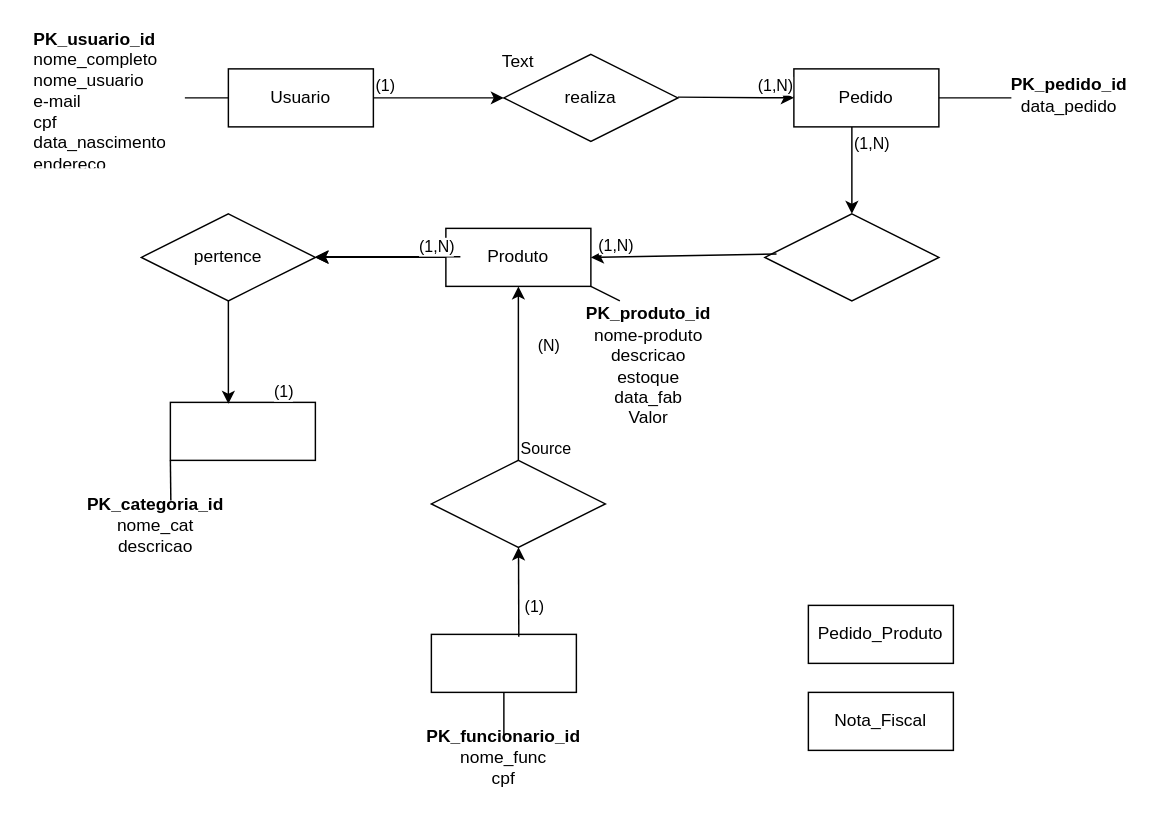
Some shapes in this 1151 by 813 pixel diagram are drawn without their labels. Each missing label, with the centre of its shape:
"cadastra" goes at [517,503].
"Categoria" goes at [242,430].
"contem" goes at [851,256].
"Funcionario" goes at [503,662].
